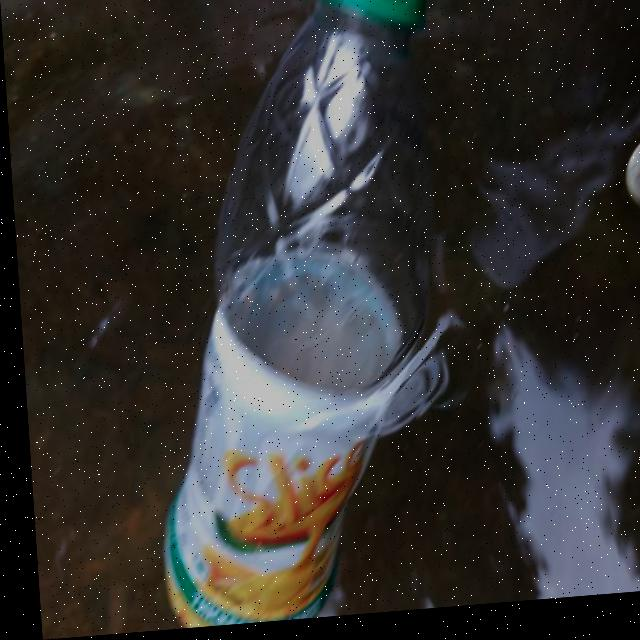leaf: (613, 146, 640, 250)
waterbottle: (111, 0, 494, 633)
